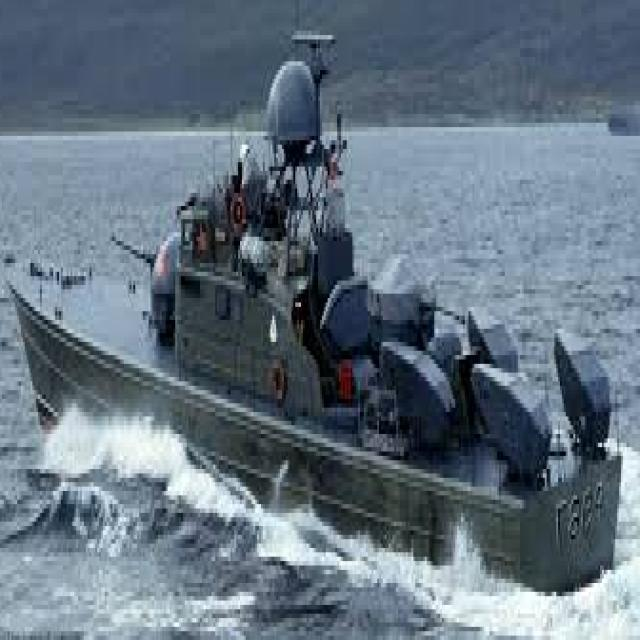navalvessels: (21, 22, 622, 624)
